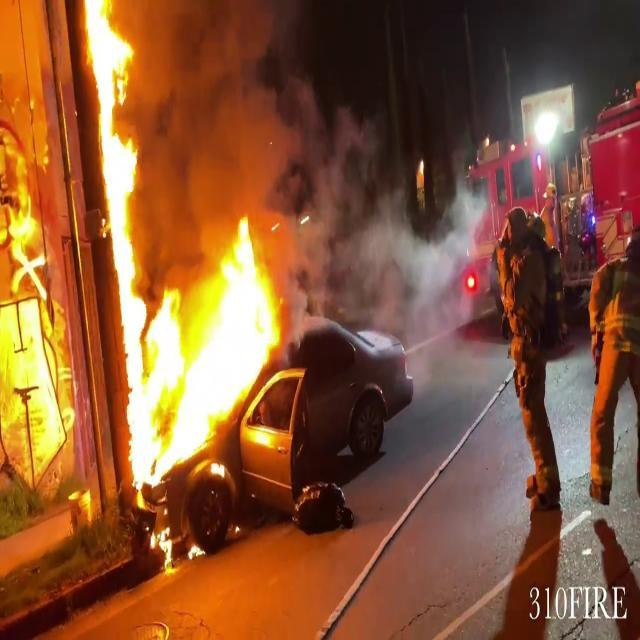Fire: (125, 208, 291, 498), (91, 0, 144, 288)
Smoke: (314, 113, 513, 411), (132, 0, 311, 250)
